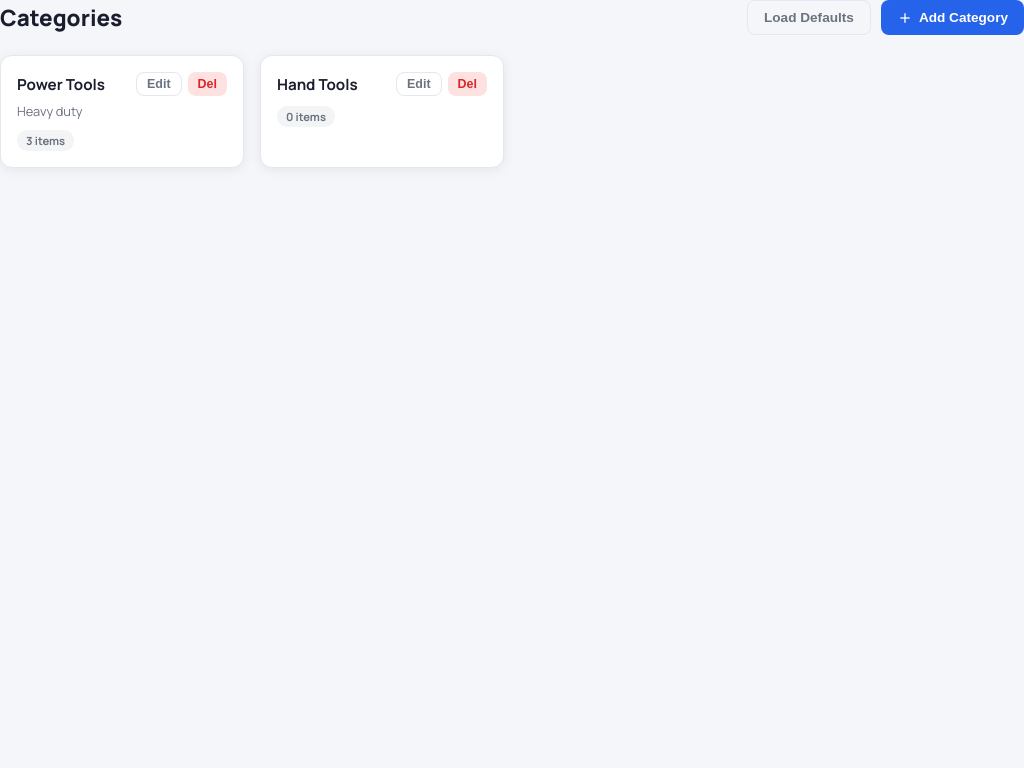
Test: CategoriesPage › opens edit modal with existing values pre-filled
expect the text "Power Tools" is shown: met, box [17,74,105,94]
click the first Edit button
Click the button "Edit" next to "Power Tools" at (159, 84), box [136,72,182,96]
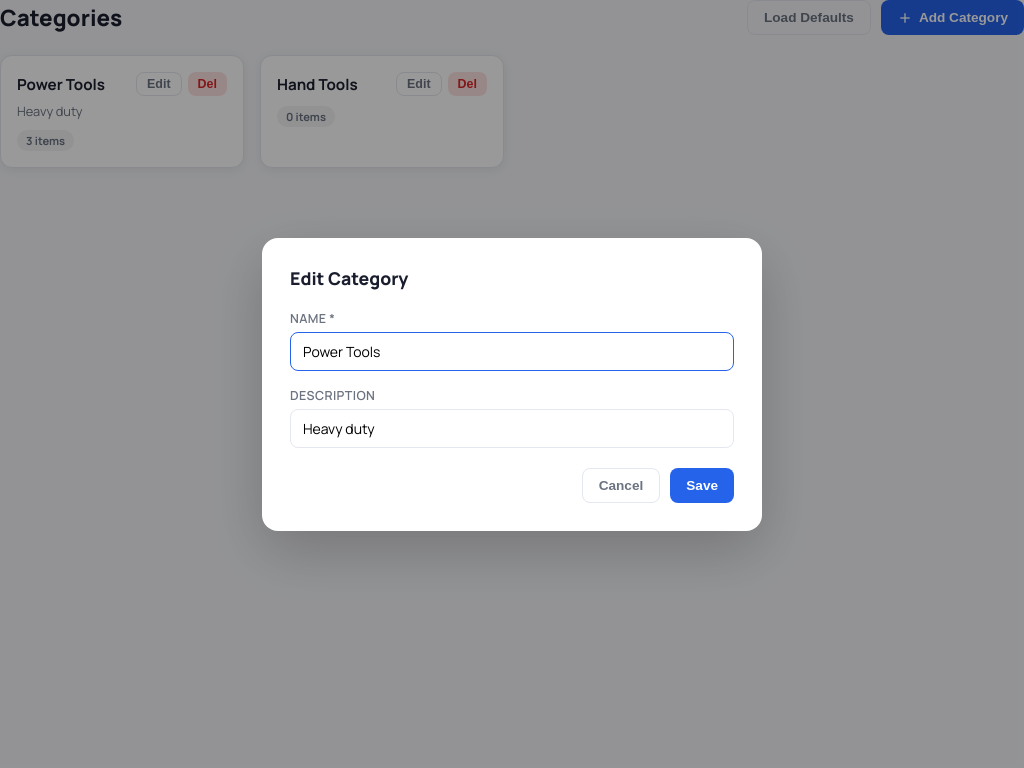
expect the text "Edit Category" is shown: met, box [290,266,408,290]
expect the field showing "Power Tools" below "Name *" is shown: met, box [290,332,734,370]
